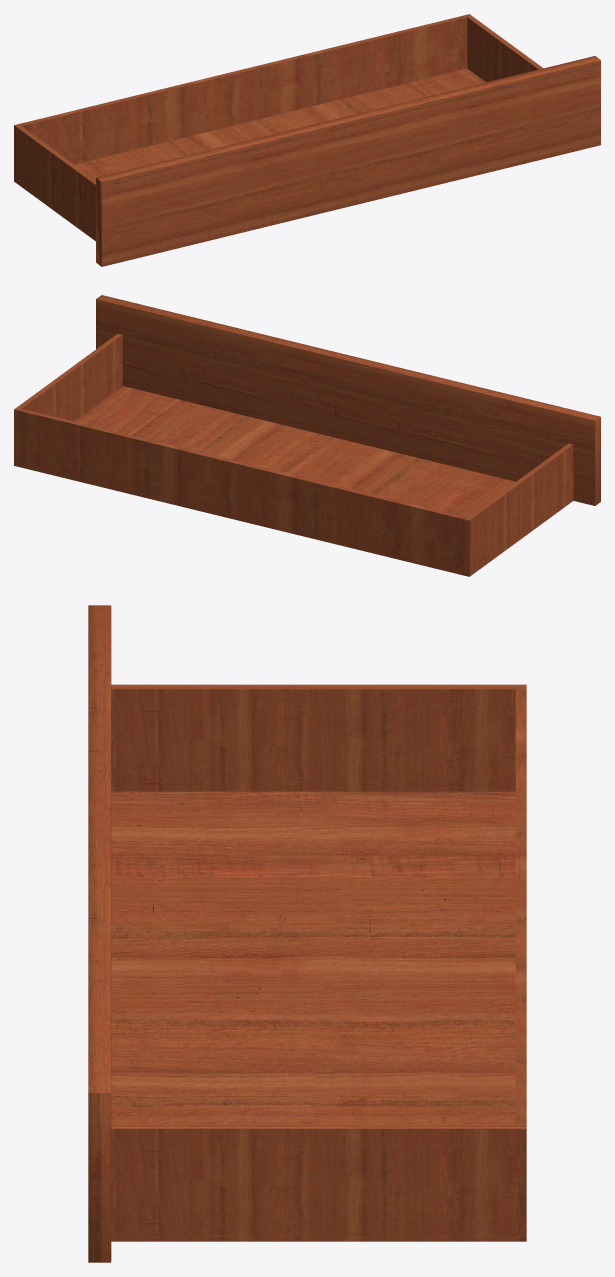
3 views of the same model, one above another, from view 1: azimuth 30°, elevation 25°; view 2: azimuth 150°, elevation 25°; view 3: azimuth 270°, elevation 25° (orthographic). The views are drawn at different scales.
Visible parts, largest first — view 1: part4:drawer 3; view 2: part4:drawer 3; view 3: part4:drawer 3.
Boxes of the visible parts, box(x1,y1,x2,y2) form: part4:drawer 3: box(14, 14, 600, 266); part4:drawer 3: box(14, 295, 600, 576); part4:drawer 3: box(88, 605, 526, 1262).
Size of the model in its own units: 1.29 by 0.2102 by 0.4891.
Materials: 1 (1 with a texture image).
